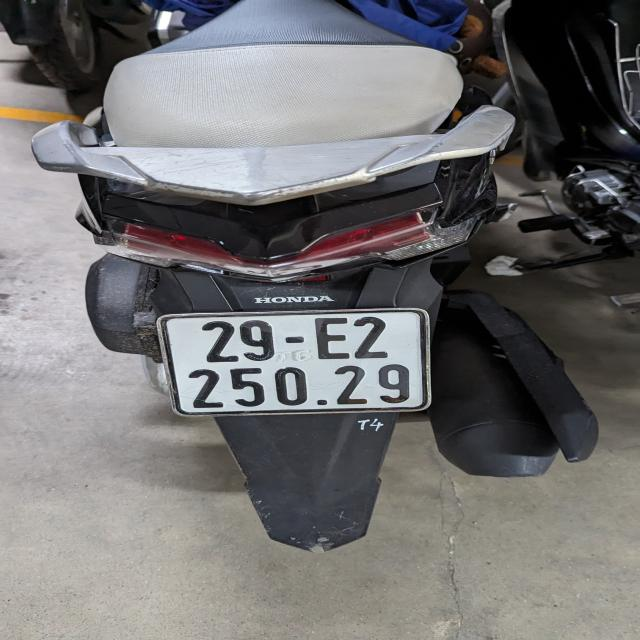License: (156, 307, 431, 417)
